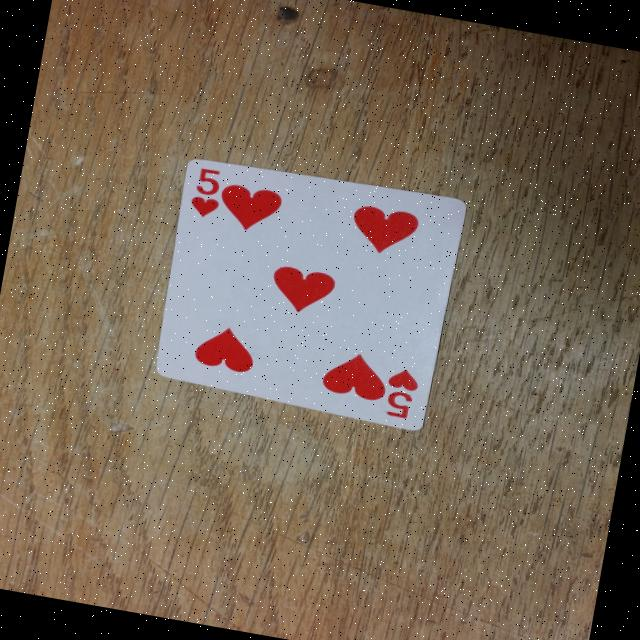5h: (366, 358, 428, 428), (176, 158, 236, 226)
